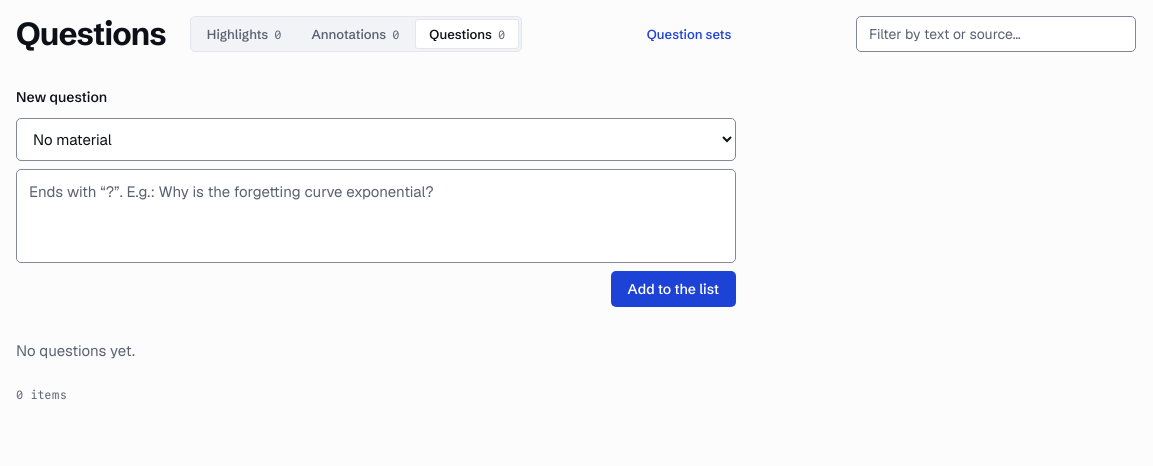
NotesView › shows the question the source answered with, not the one it was sent
The width and height of the screenshot is (1153, 466).
Replace the text in the text box with id "new-question" with "The question as I wrote it?" at (376, 216), box [16,169,736,263]
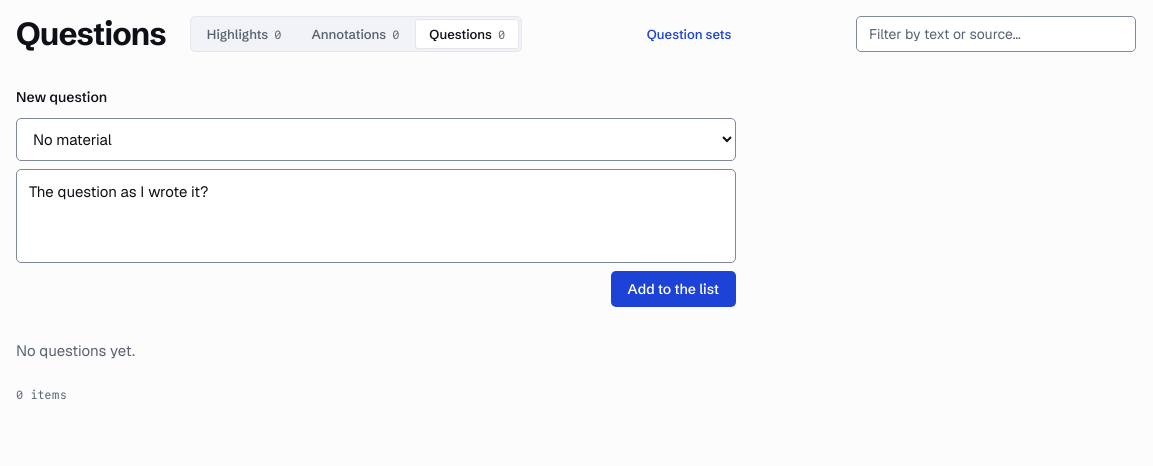
Submit the form, box [16,84,736,307]
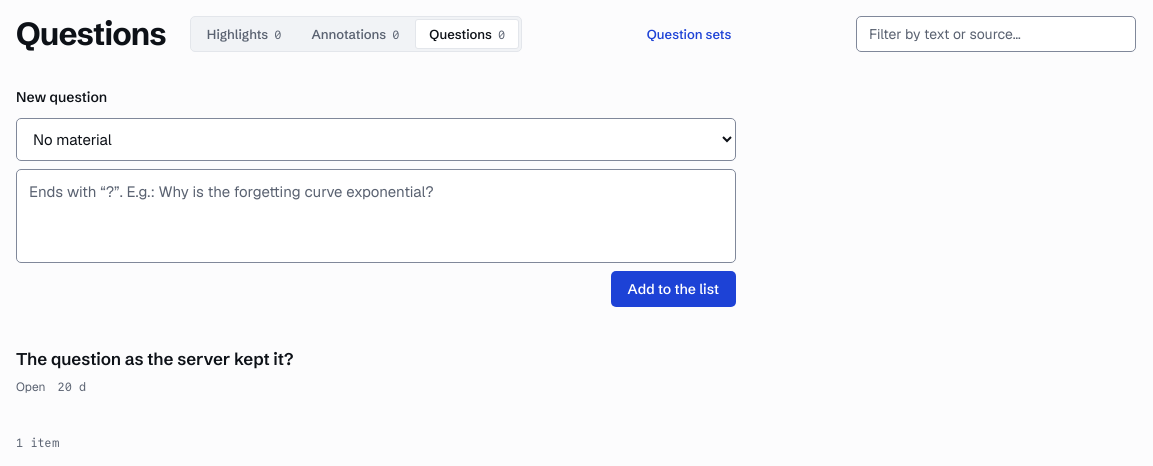
Expected: the text with class "nt-q-text" reads "The question as the server kept it?", [16,348,293,369]
Expected: the text with class "notes-count" reads "1 item", [16,436,59,449]
